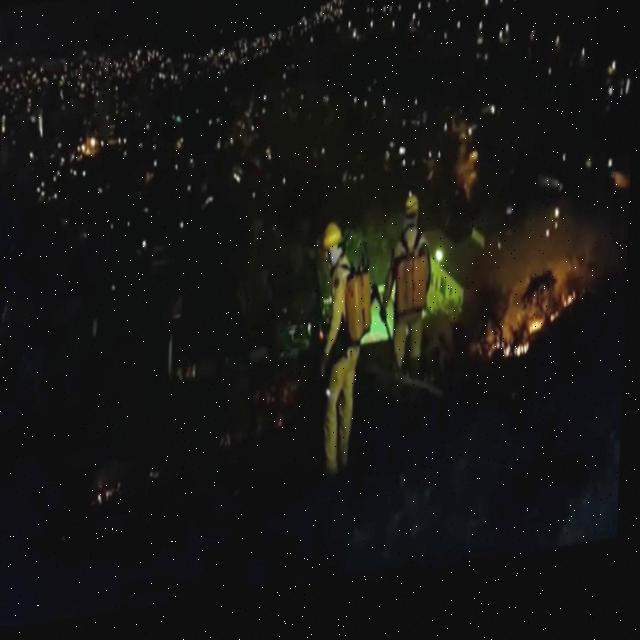Fire: (510, 360, 532, 375), (532, 330, 548, 350), (566, 307, 579, 325)
